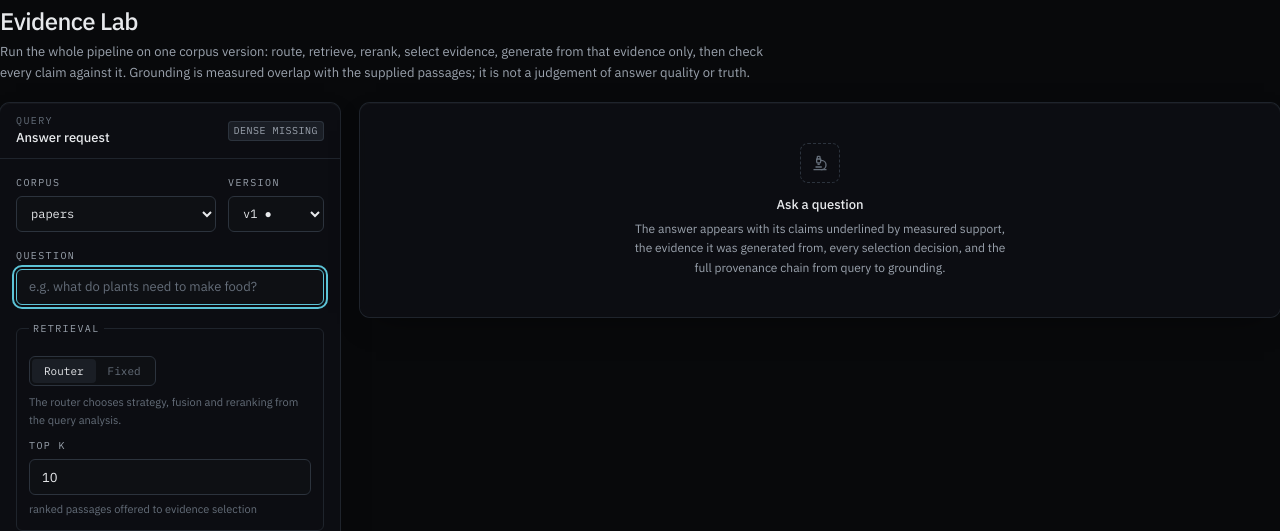
Test: Evidence Lab › runs the pipeline and shows answer, grounding, claims, evidence, selection and provenance
Type "what do plants need?" into the field labelled "Question" at (170, 287), box [16, 269, 324, 305]
Then press Enter
(page scrolled)
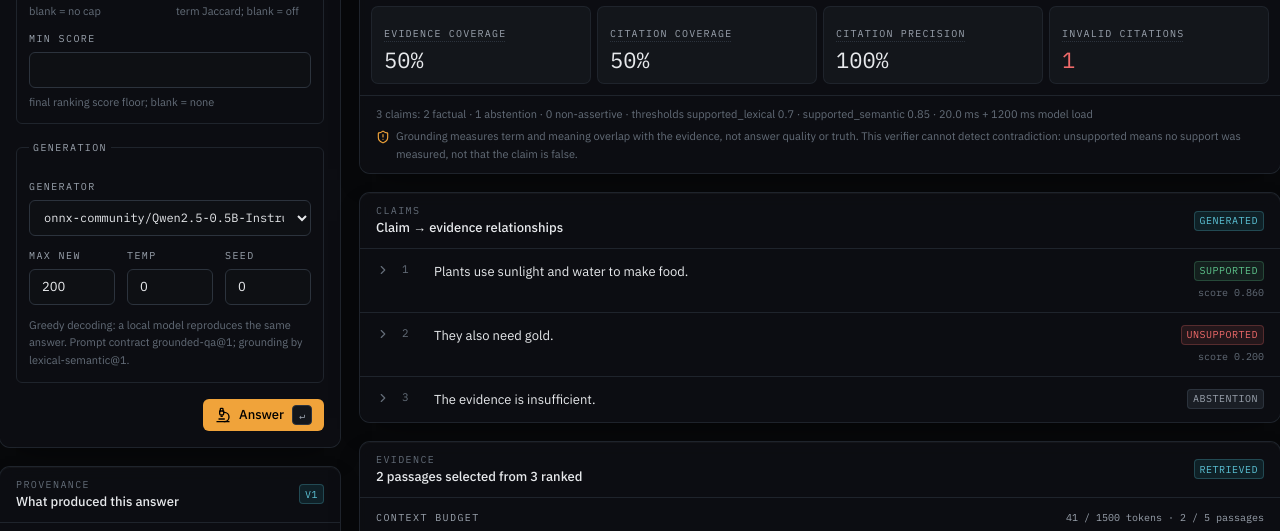
expect the text "cannot detect contradiction" is shown: met, box [396, 129, 1241, 160]
expect the text "not answer quality or truth" is shown: met, box [396, 129, 859, 143]
expect the text "20.0 ms + 1200 ms model load" is shown: met, box [376, 107, 1093, 121]
Click the button "2 They also need gold. unsupported score 0.200" at (494, 335), box [360, 313, 1279, 376]
(page scrolled)
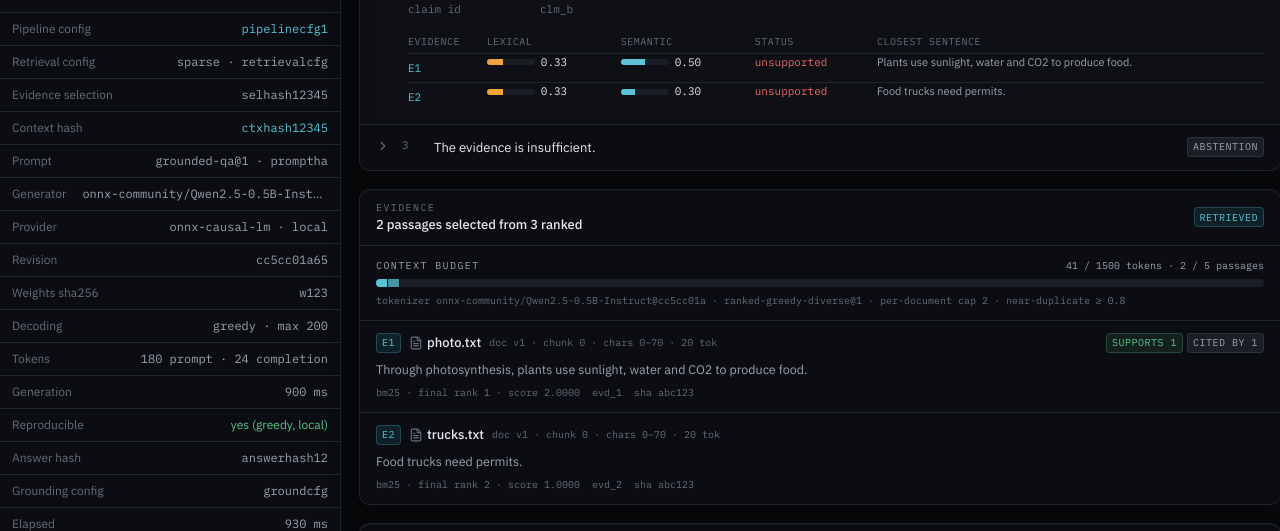
expect the text "ctxhash12345" is shown: met, box [242, 120, 328, 135]
expect the text "pipelinecfg1" is shown: met, box [242, 21, 328, 36]
expect the table that starts with "evidence" is shown: met, box [408, 30, 1264, 112]
